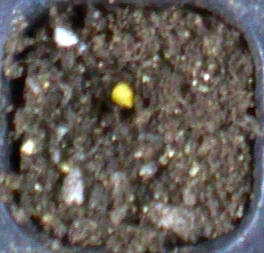chilli seed: (111, 83, 133, 108)
